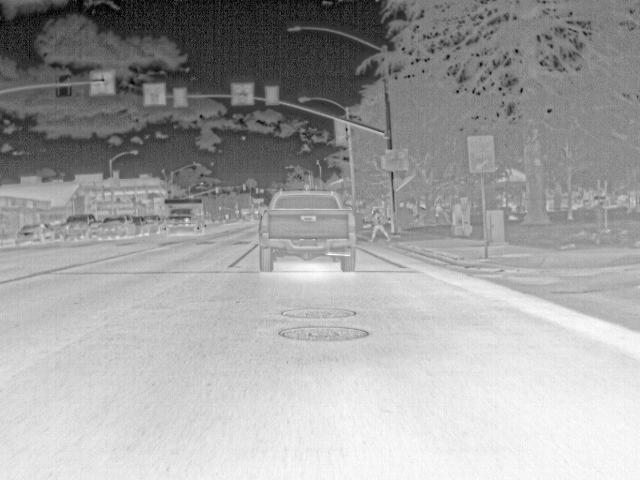car: (257, 188, 358, 271), (60, 212, 100, 241), (98, 213, 138, 238), (14, 222, 51, 245), (139, 214, 161, 234), (132, 213, 144, 235), (51, 221, 61, 242)
person: (370, 207, 391, 243)
